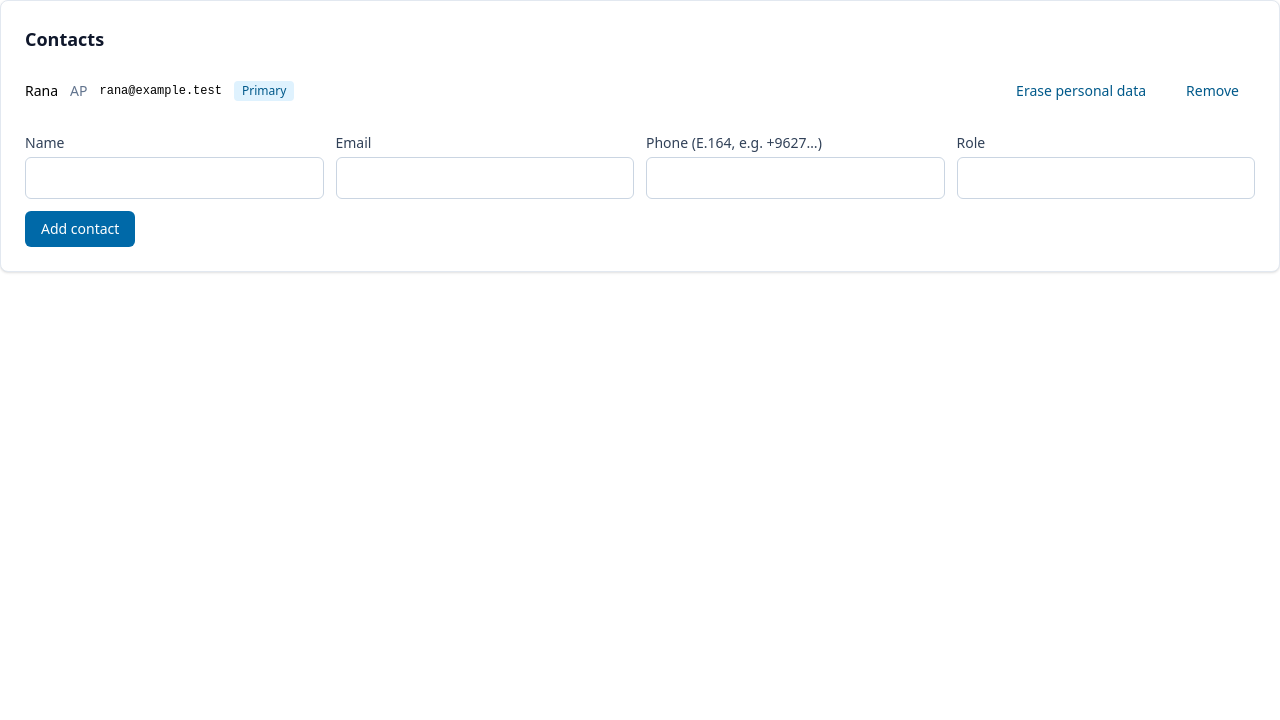
Test: Contacts (slice 25) › erases a contact only through the re-authentication dialog, and shows the erased row read-only (slice 31)
The width and height of the screenshot is (1280, 720).
Click the button with test id "erase-contact" at (1081, 91), box [1000, 73, 1162, 109]
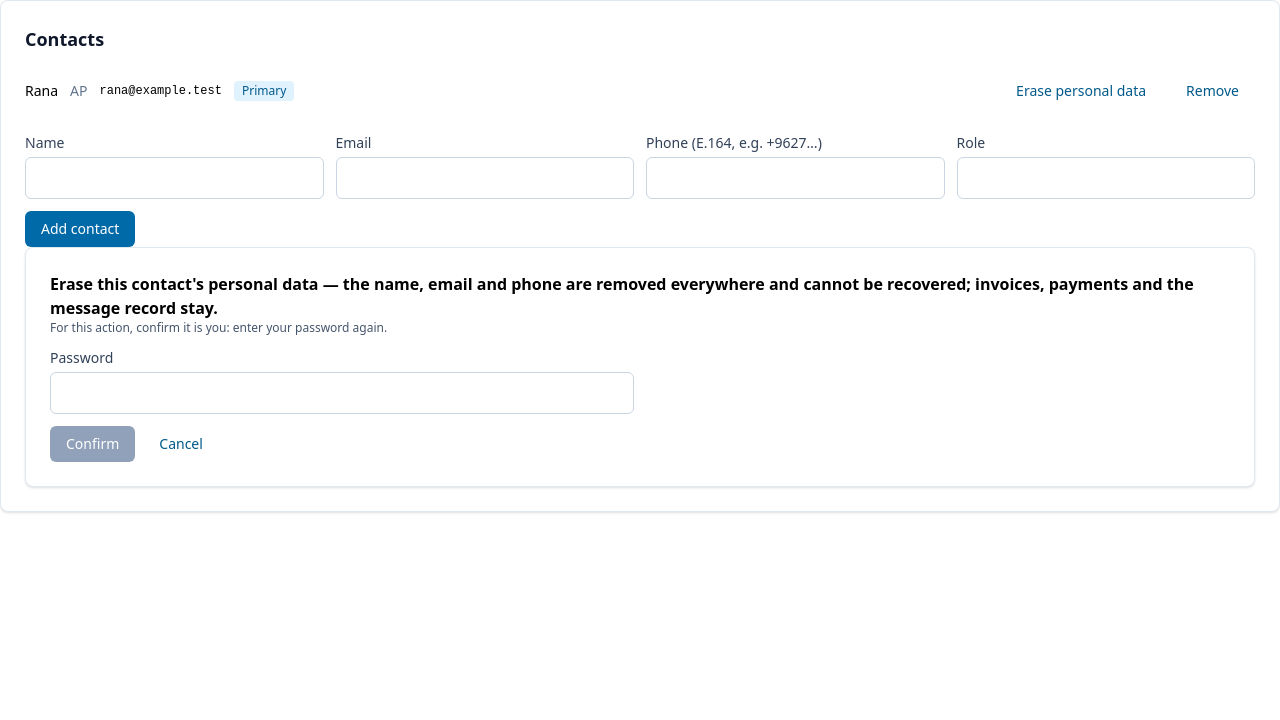
Type "Correct-Horse-Battery-9" into the password field with test id "reauth-password" at (342, 393), box [50, 372, 634, 414]
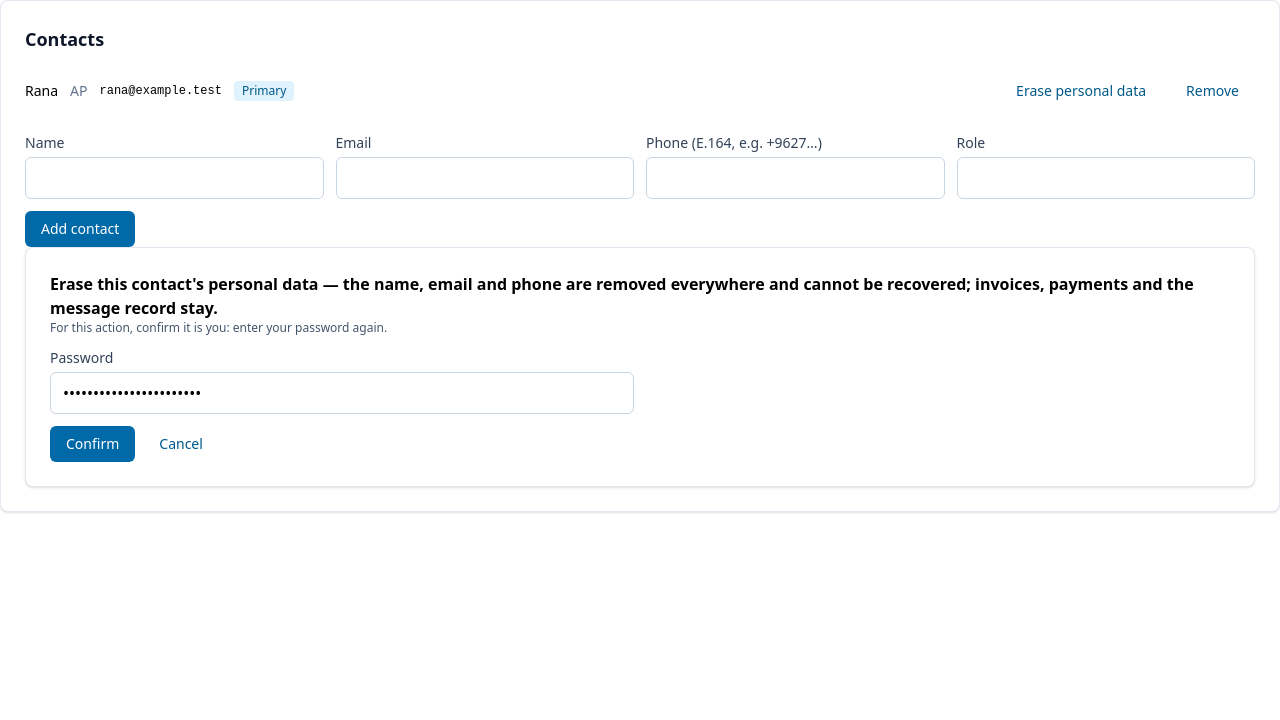
Click the button with test id "reauth-confirm" at (93, 444), box [50, 426, 135, 462]
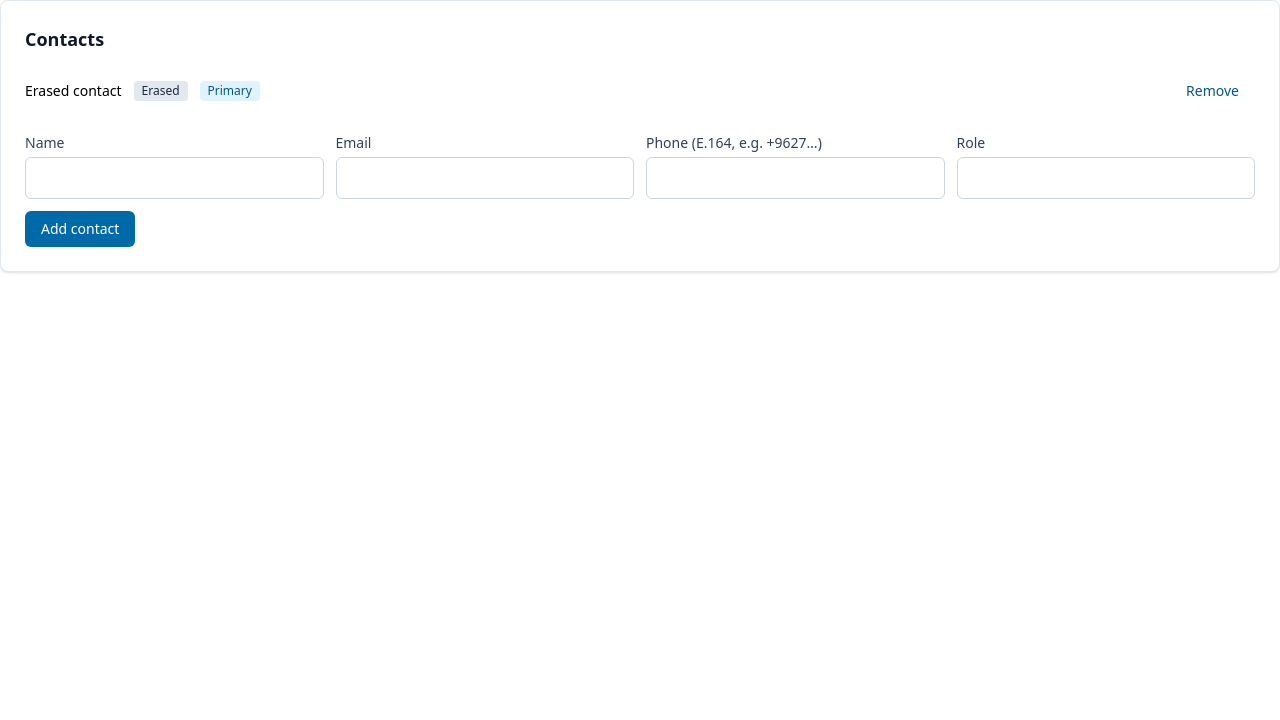
Now the text "Erased" is shown, box [134, 81, 188, 101]
Now the button with test id "erase-contact" is gone
Now the list item with test id "contact-row" shows "Erased contact", box [25, 81, 122, 100]
